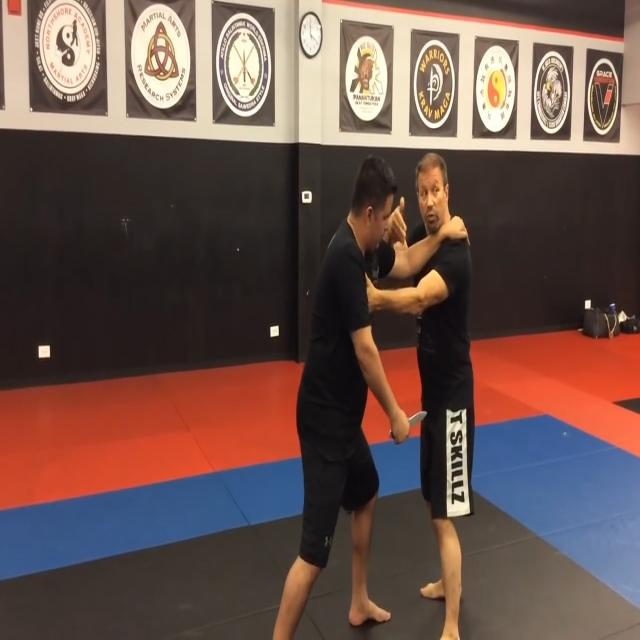knife: (406, 399, 430, 445)
